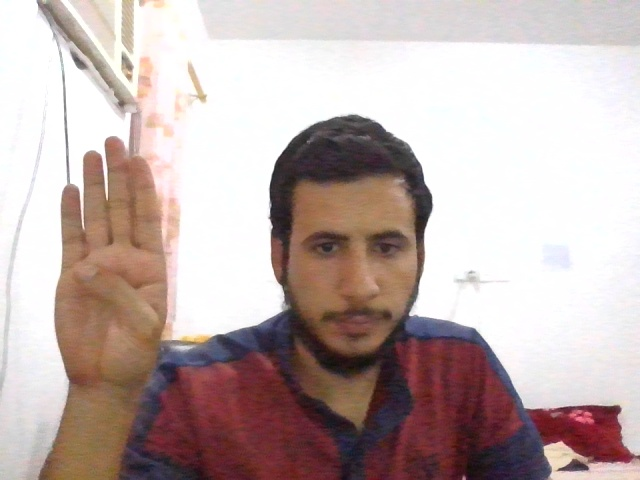Four: (55, 136, 168, 381)
